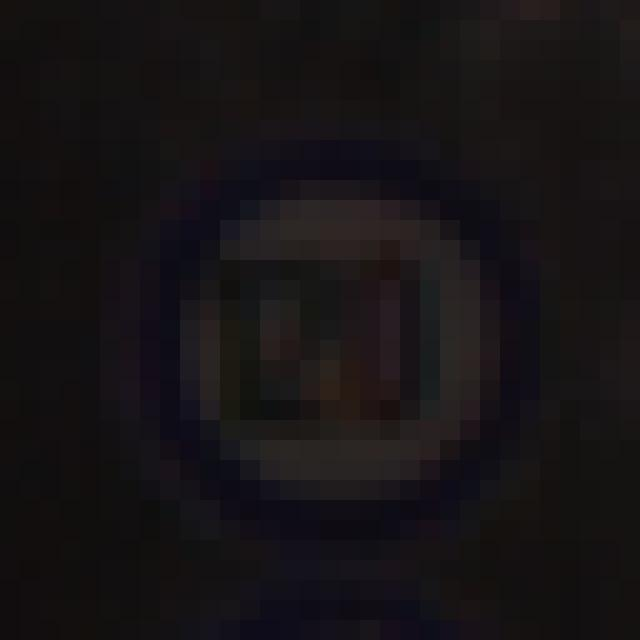SPEED LIMIT 120: (147, 178, 516, 514)
